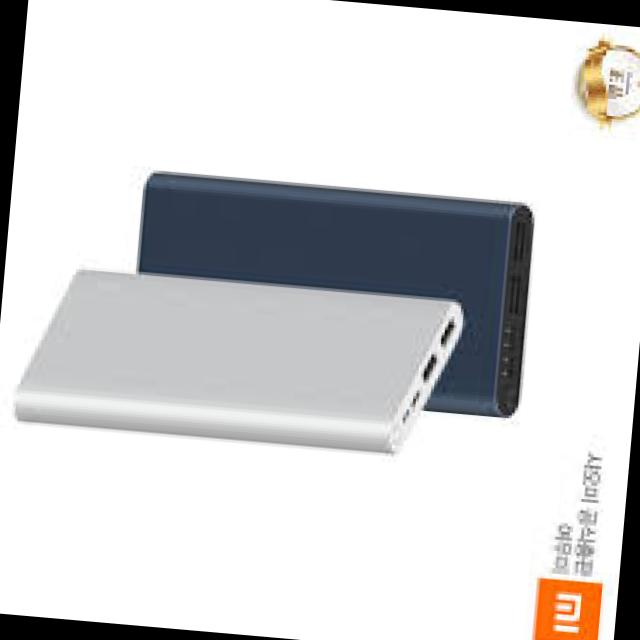portable-charger: (118, 165, 538, 423), (9, 264, 464, 462)
